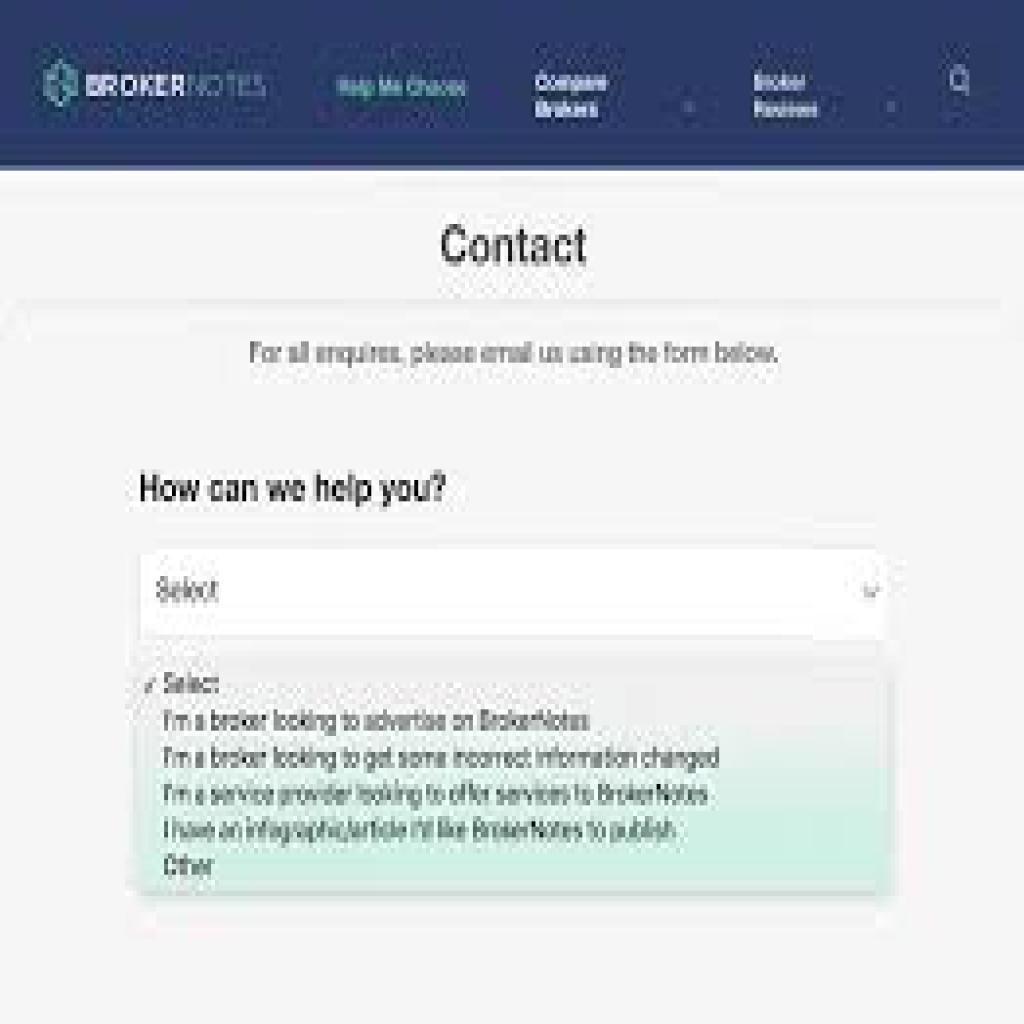dropdown: (140, 551, 892, 641)
icon: (941, 62, 981, 105)
label: (327, 70, 474, 105), (530, 67, 614, 127), (751, 69, 827, 124)
